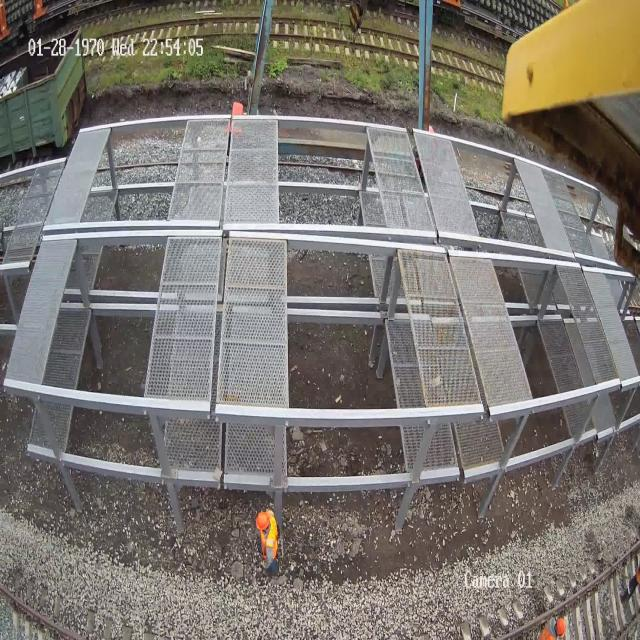Helmet: (256, 511, 269, 530), (556, 618, 565, 636)
Person: (256, 508, 278, 575)
